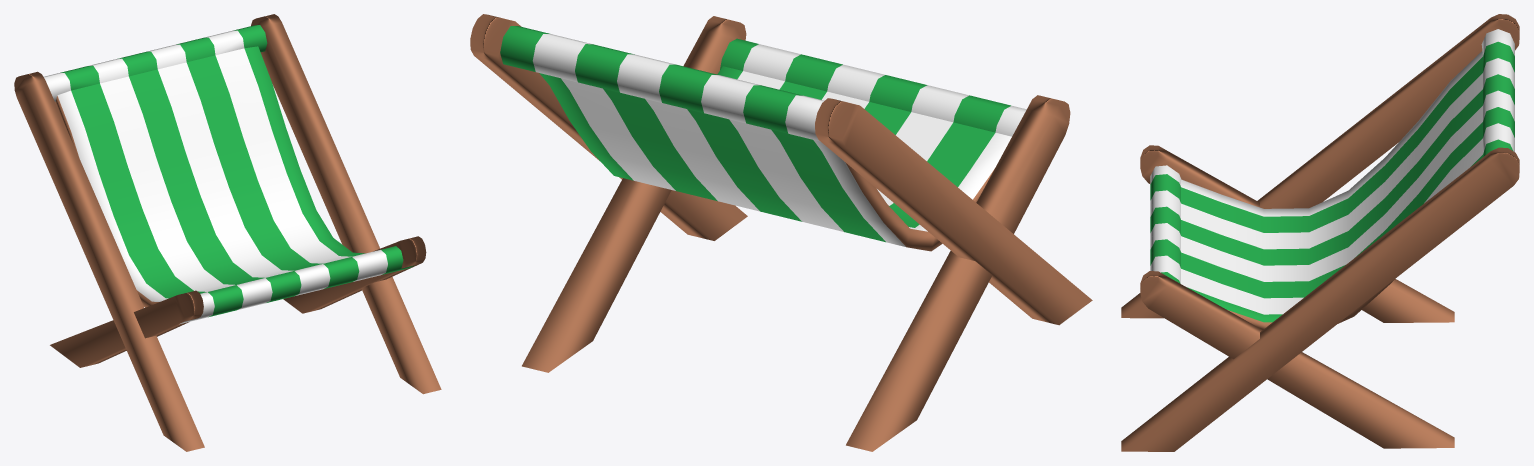
File: deck_chair_green.fbx
The picture shows the model from 3 angles, left to right: view 1: azimuth 30°, elevation 25°; view 2: azimuth 150°, elevation 25°; view 3: azimuth 270°, elevation 25°; orthographic projection. The views are drawn at different scales.
Visible parts, largest first — view 1: deck_chair_green; view 2: deck_chair_green; view 3: deck_chair_green.
Boxes of the visible parts, x1,y1,x2,y2 form: deck_chair_green: (14, 14, 441, 451); deck_chair_green: (470, 14, 1092, 451); deck_chair_green: (1121, 14, 1519, 451).
Size of the model in its own units: 0.7386 by 0.7048 by 0.8637.
